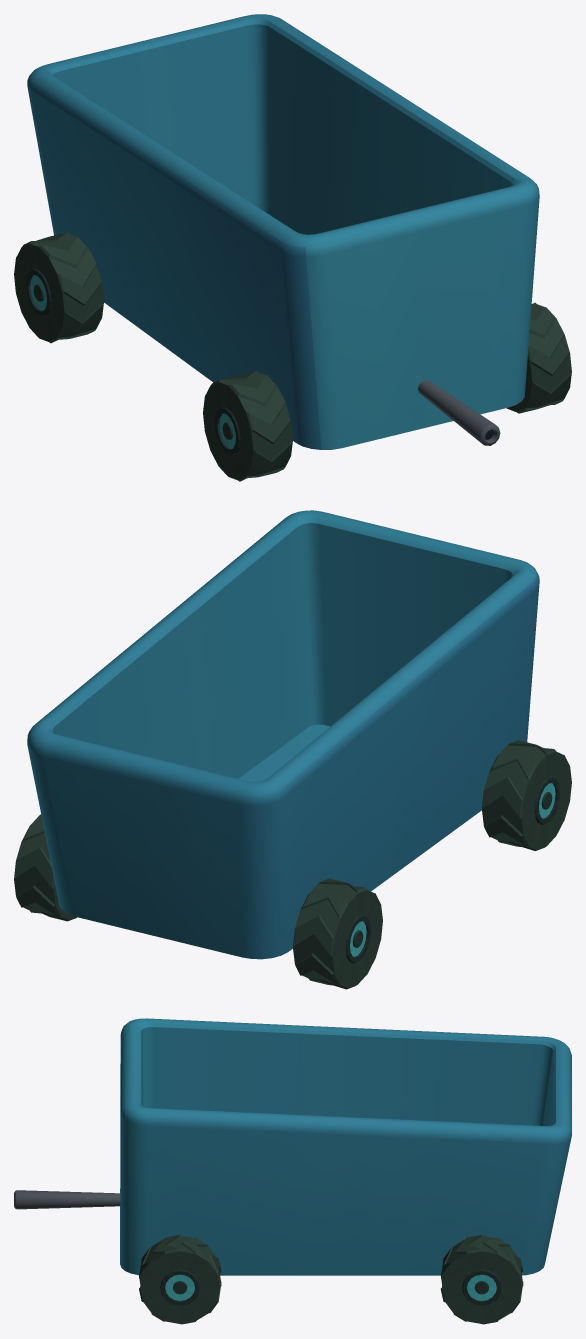
The model's file is Carrier.fbx.
The picture shows the model from 3 angles, top to bottom: view 1: azimuth 30°, elevation 25°; view 2: azimuth 150°, elevation 25°; view 3: azimuth 270°, elevation 25°; orthographic projection. The views are drawn at different scales.
Visible parts, largest first — view 1: Carrier, Front wheelss, Back Wheelss, pipe; view 2: Carrier, Back Wheelss, Front wheelss; view 3: Carrier, Front wheelss, Back Wheelss, pipe.
Part boxes in pixels (left/top/right/bottom): Carrier: left=27, top=14, right=539, bottom=449; Front wheelss: left=203, top=302, right=571, bottom=481; Back Wheelss: left=14, top=232, right=103, bottom=343; pipe: left=418, top=380, right=500, bottom=445; Carrier: left=27, top=510, right=539, bottom=959; Back Wheelss: left=14, top=814, right=382, bottom=989; Front wheelss: left=482, top=740, right=571, bottom=850; Carrier: left=120, top=1018, right=571, bottom=1275; Front wheelss: left=139, top=1235, right=221, bottom=1324; Back Wheelss: left=440, top=1235, right=523, bottom=1324; pipe: left=14, top=1190, right=120, bottom=1209.
Bounding box in the file's own units: 2.38 × 1.77 × 4.47.
